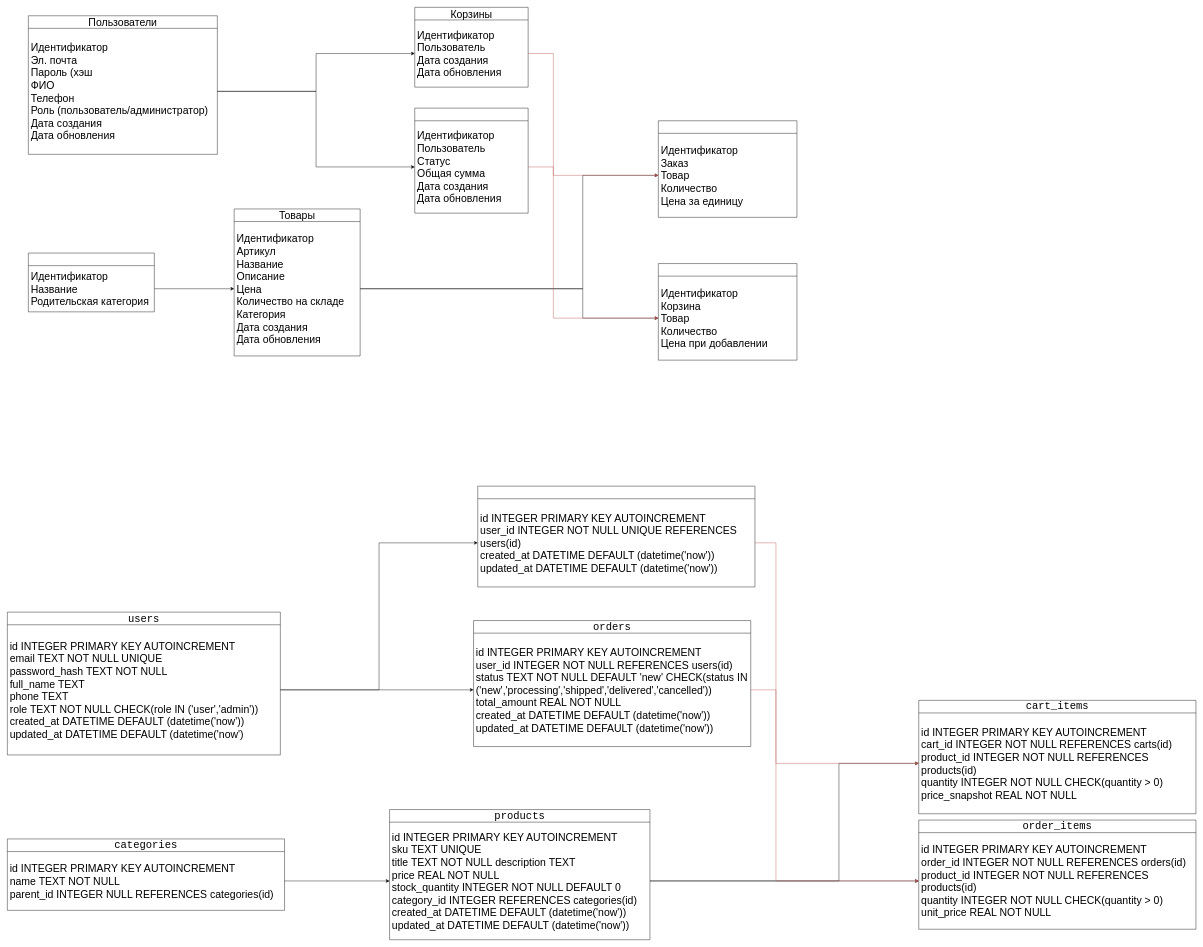
This 1203x947 diagram has some shape labels left out. The shapes that lost their labels are listed below. From the top down, each one's box as (x1, y1, x2, y2) in pixels, then its label:
(414, 108, 528, 213): Заказы
(658, 120, 797, 217): Позиции в заказе
(28, 253, 154, 312): Категории товаров
(658, 263, 797, 360): Позиции в корзине
(477, 486, 755, 587): carts
